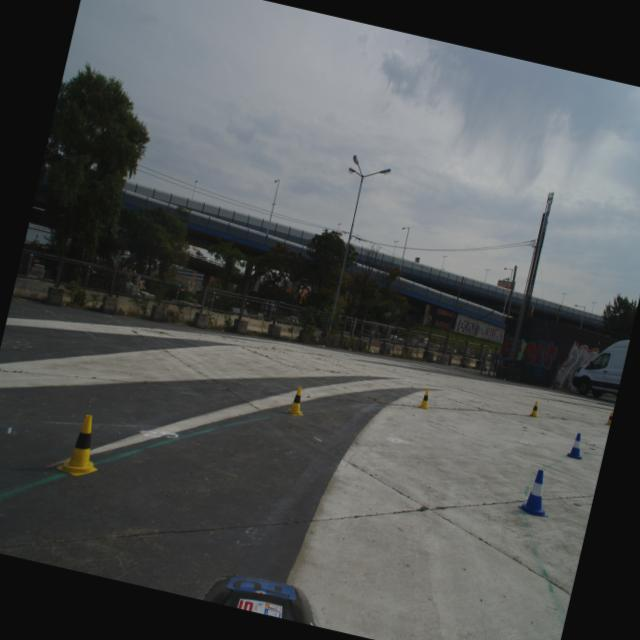blue_cone: (516, 466, 558, 518), (566, 432, 588, 461)
yellow_cone: (56, 410, 109, 480), (284, 384, 309, 418), (418, 388, 432, 410), (528, 400, 542, 418), (604, 410, 612, 426)
